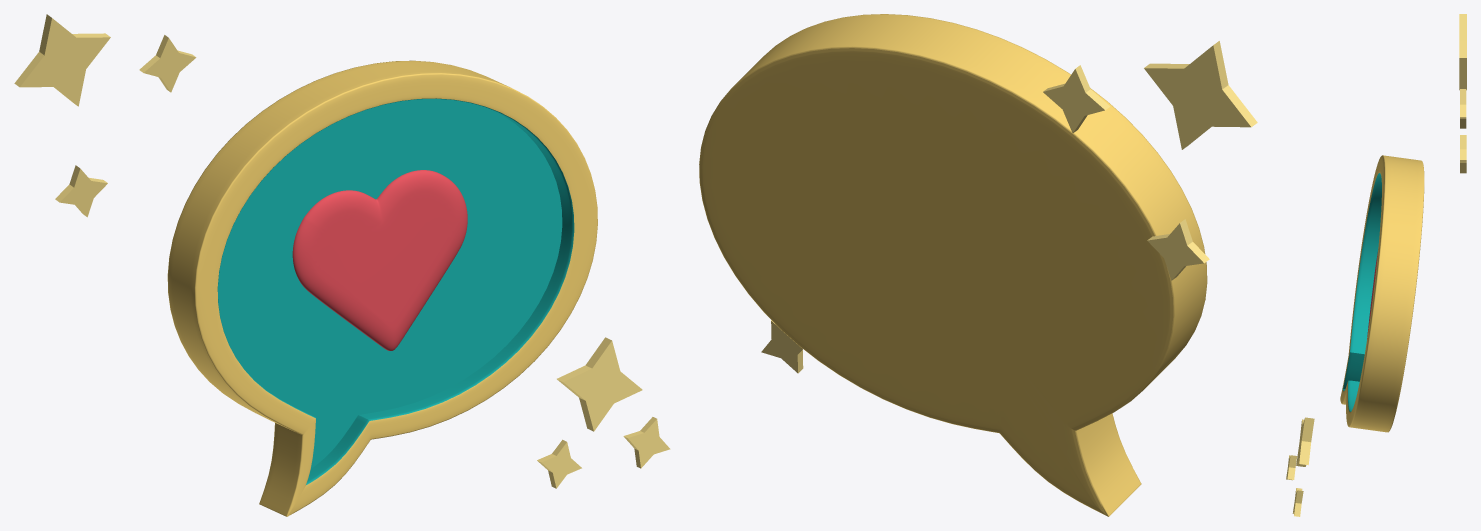
File: MessageIcon.fbx
3 renders of one model, left to right at view 1: azimuth 30°, elevation 25°; view 2: azimuth 150°, elevation 25°; view 3: azimuth 270°, elevation 25°, orthographic. The views are drawn at different scales.
Parts seen in each view (by area): view 1: Cylinder, Cube.001, Star, Star.003, Star.001, Star.002, Star.004, Star.005; view 2: Cylinder, Star, Star.001, Star.002, Star.004; view 3: Cylinder, Star.003, Star, Star.001, Star.002, Star.004.
Part boxes in pixels (x1,y1,x2,y2): Cylinder: [167, 60, 597, 516]; Cube.001: [292, 170, 467, 350]; Star: [14, 14, 110, 106]; Star.003: [557, 337, 642, 431]; Star.001: [139, 35, 196, 92]; Star.002: [55, 165, 107, 217]; Star.004: [623, 417, 670, 468]; Star.005: [537, 439, 581, 488]; Cylinder: [699, 14, 1207, 516]; Star: [1144, 41, 1257, 149]; Star.001: [1043, 65, 1110, 133]; Star.002: [1147, 219, 1209, 280]; Star.004: [761, 320, 803, 373]; Cylinder: [1340, 155, 1424, 432]; Star.003: [1296, 417, 1314, 466]; Star: [1459, 14, 1466, 90]; Star.001: [1460, 89, 1466, 128]; Star.002: [1460, 135, 1466, 173]; Star.004: [1292, 488, 1303, 516].
Size of the model in its own units: 578 by 499 by 241.
